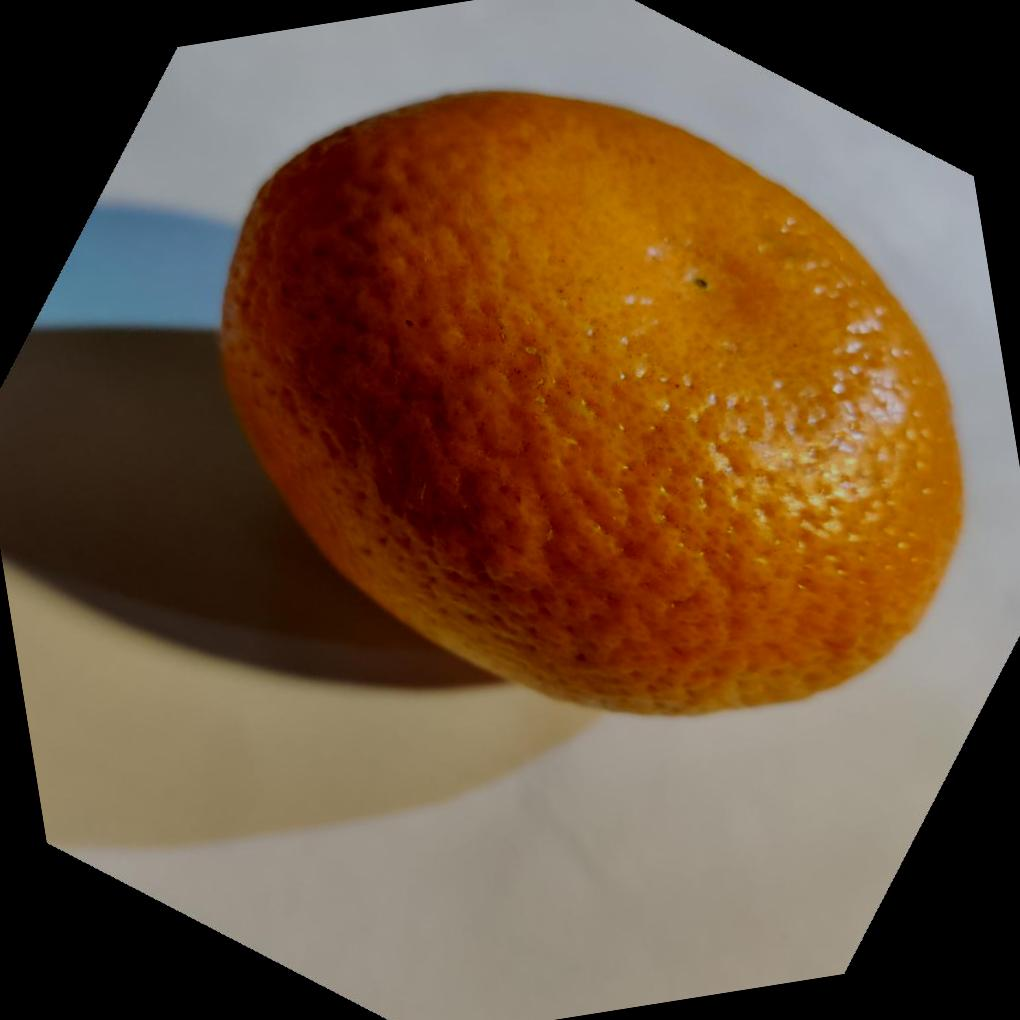FreshGuava: (215, 90, 969, 722)
